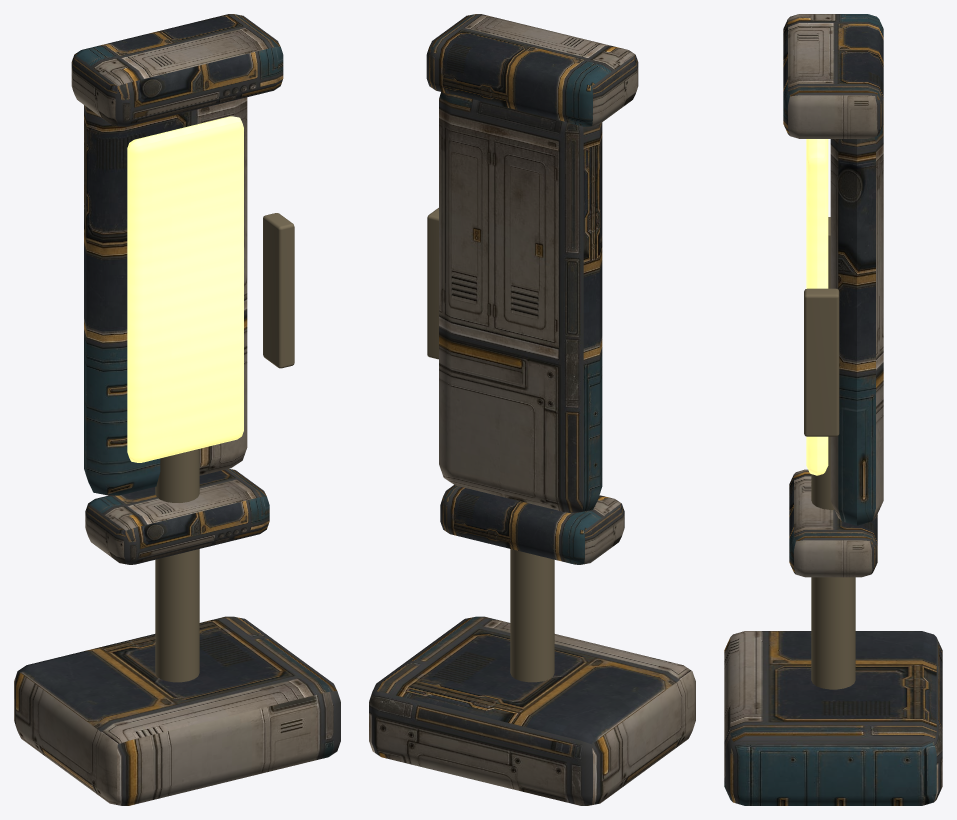
The model's file is hp_light_residential_lamp_warm.glb.
3 renders of one model, left to right at view 1: azimuth 30°, elevation 25°; view 2: azimuth 150°, elevation 25°; view 3: azimuth 270°, elevation 25°, orthographic.
Parts seen in each view (by area): view 1: weighted_floor_base, front_glowing_lens, lamp_back_housing, top_cap_dark, bottom_cap_dark, vertical_service_spine, small_side_handle; view 2: lamp_back_housing, weighted_floor_base, top_cap_dark, bottom_cap_dark, vertical_service_spine, small_side_handle; view 3: weighted_floor_base, lamp_back_housing, top_cap_dark, bottom_cap_dark, vertical_service_spine, small_side_handle, front_glowing_lens.
Part boxes in pixels (<box>): weighted_floor_base: <box>14,616,340,805</box>; front_glowing_lens: <box>127,116,243,462</box>; lamp_back_housing: <box>84,97,247,495</box>; top_cap_dark: <box>71,14,283,126</box>; bottom_cap_dark: <box>85,469,269,564</box>; vertical_service_spine: <box>155,449,199,682</box>; small_side_handle: <box>263,213,294,368</box>; lamp_back_housing: <box>439,92,602,512</box>; weighted_floor_base: <box>369,616,695,805</box>; top_cap_dark: <box>426,14,638,126</box>; bottom_cap_dark: <box>440,485,624,564</box>; vertical_service_spine: <box>510,501,554,682</box>; small_side_handle: <box>427,208,438,359</box>; weighted_floor_base: <box>724,631,942,805</box>; lamp_back_housing: <box>830,124,883,525</box>; top_cap_dark: <box>783,14,883,138</box>; bottom_cap_dark: <box>789,469,877,577</box>; vertical_service_spine: <box>811,217,855,689</box>; small_side_handle: <box>804,288,839,436</box>; front_glowing_lens: <box>806,139,828,475</box>.
Bounding box in the file's own units: 0.5153 × 1.48 × 0.4145.
Materials: 4 (3 with a texture image).
